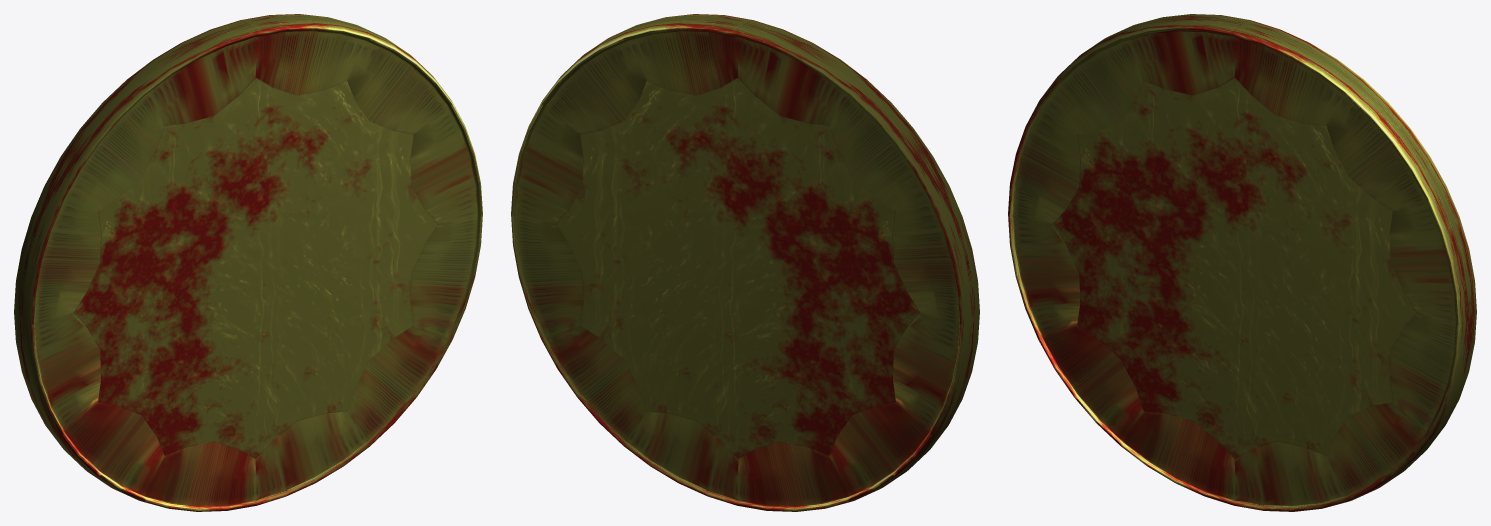
File: coin_embedded.gltf
3 views of the same model, side by side, from view 1: azimuth 30°, elevation 25°; view 2: azimuth 150°, elevation 25°; view 3: azimuth 330°, elevation 25° (orthographic).
Visible parts, largest first — view 1: Cylinder; view 2: Cylinder; view 3: Cylinder.
Part boxes in pixels (x1=…): Cylinder: x1=14, y1=14, x2=482, y2=511; Cylinder: x1=511, y1=14, x2=979, y2=511; Cylinder: x1=1008, y1=14, x2=1476, y2=511.
Bounding box in the file's own units: 1.92 × 1.92 × 0.133.
1 material, 1 textured.
